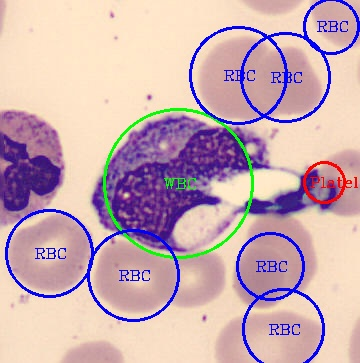RBC: (5, 208, 93, 295), (195, 32, 276, 120), (91, 238, 178, 314), (211, 308, 325, 361), (243, 214, 318, 294), (257, 42, 324, 118), (160, 248, 228, 309), (230, 244, 287, 308), (320, 146, 359, 219)
WBC: (91, 108, 315, 252), (0, 104, 67, 224)
